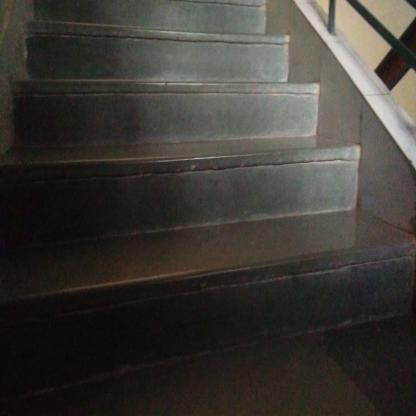stairs: (39, 9, 293, 394)
